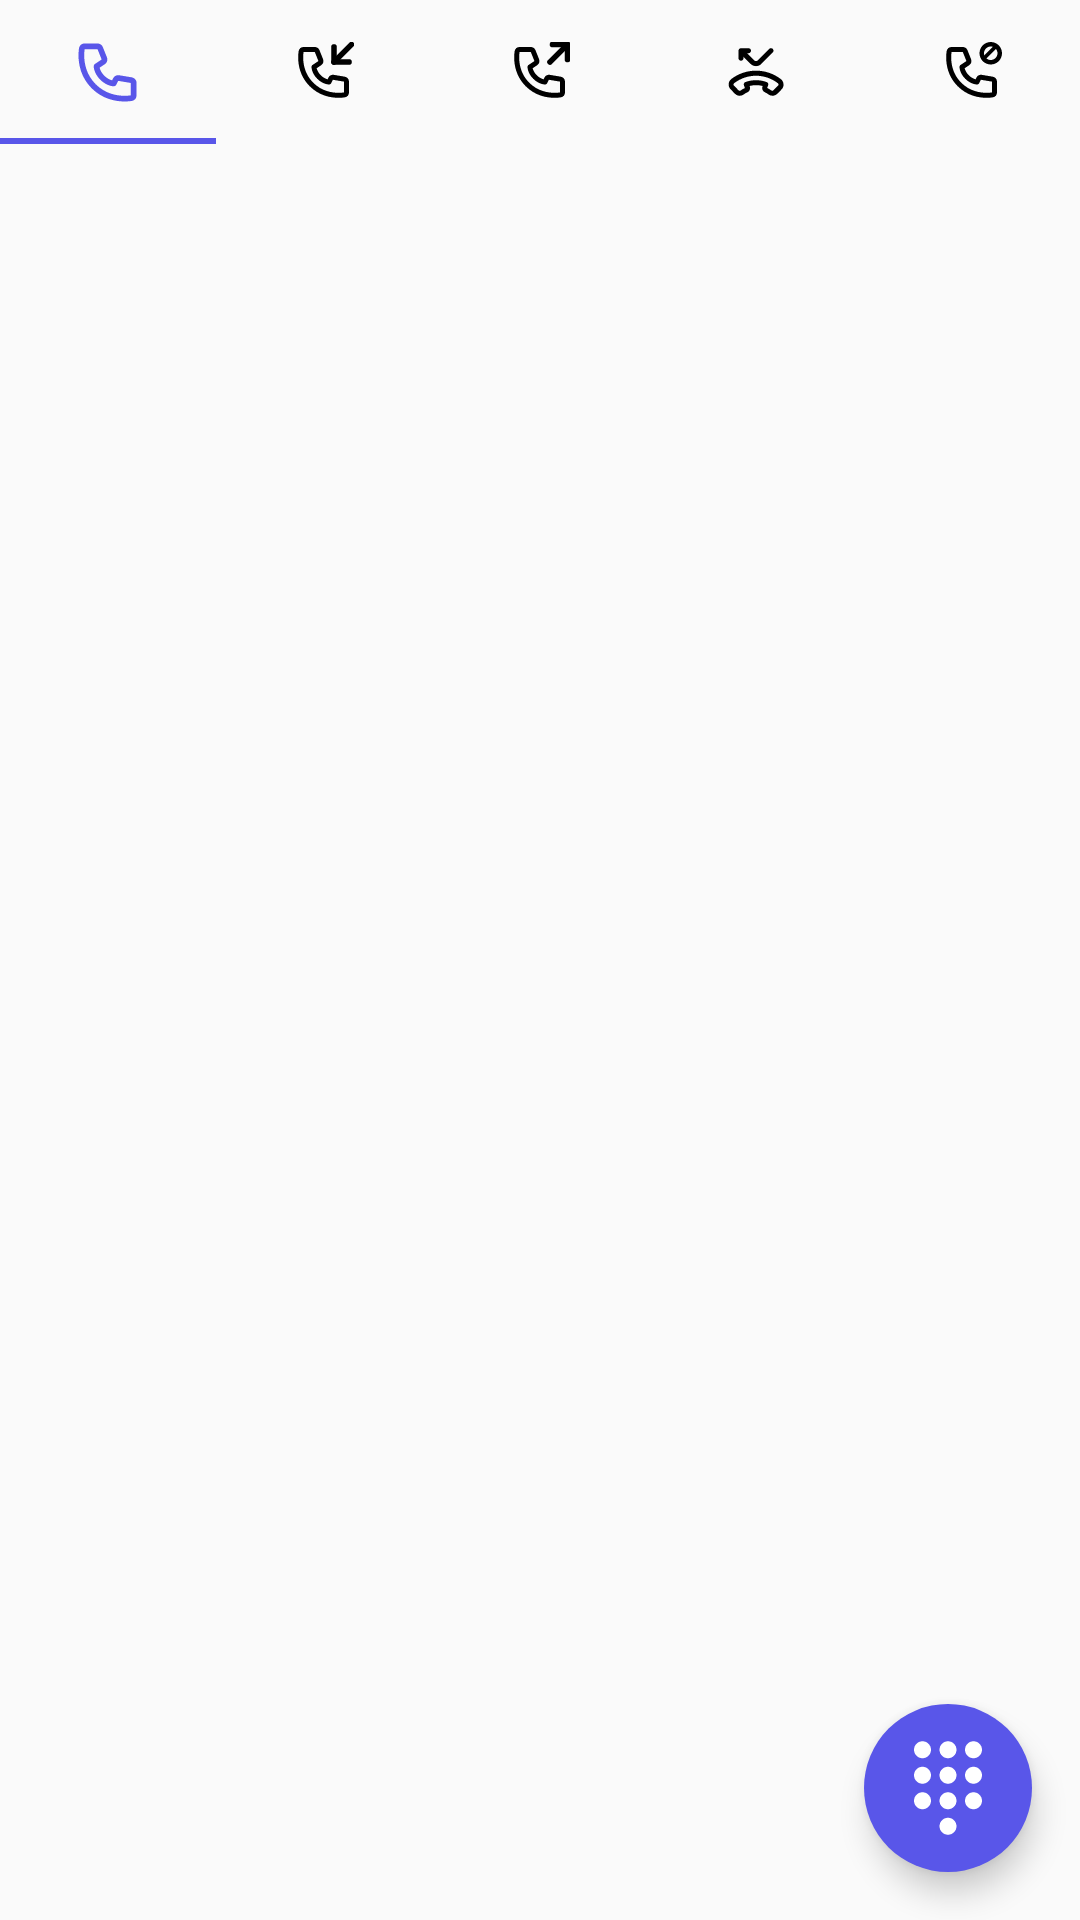

Icons on this 1080px×1920px Android screen, each with the point to tap as [x,y]:
dialpad: [948,1788]
